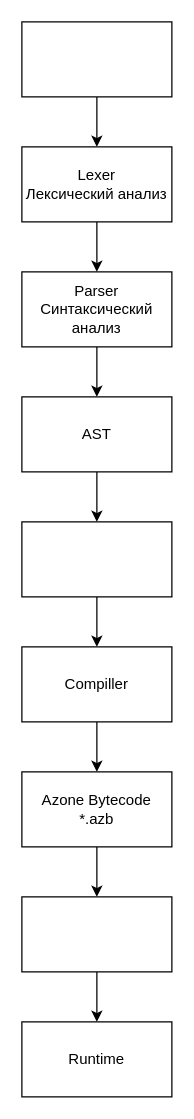
The diagram is 194 pixels wide and 1119 high, and some of its shapes have lost their labels. Here are the shapes that lost their labels. From the top down, the centre of each, then its label:
the point at 96,59: AZONE Source *.az
the point at 96,559: Semantic Analyzer Типы / области видимости / ошибки
the point at 96,934: Virtual Machine Stack-based VM
